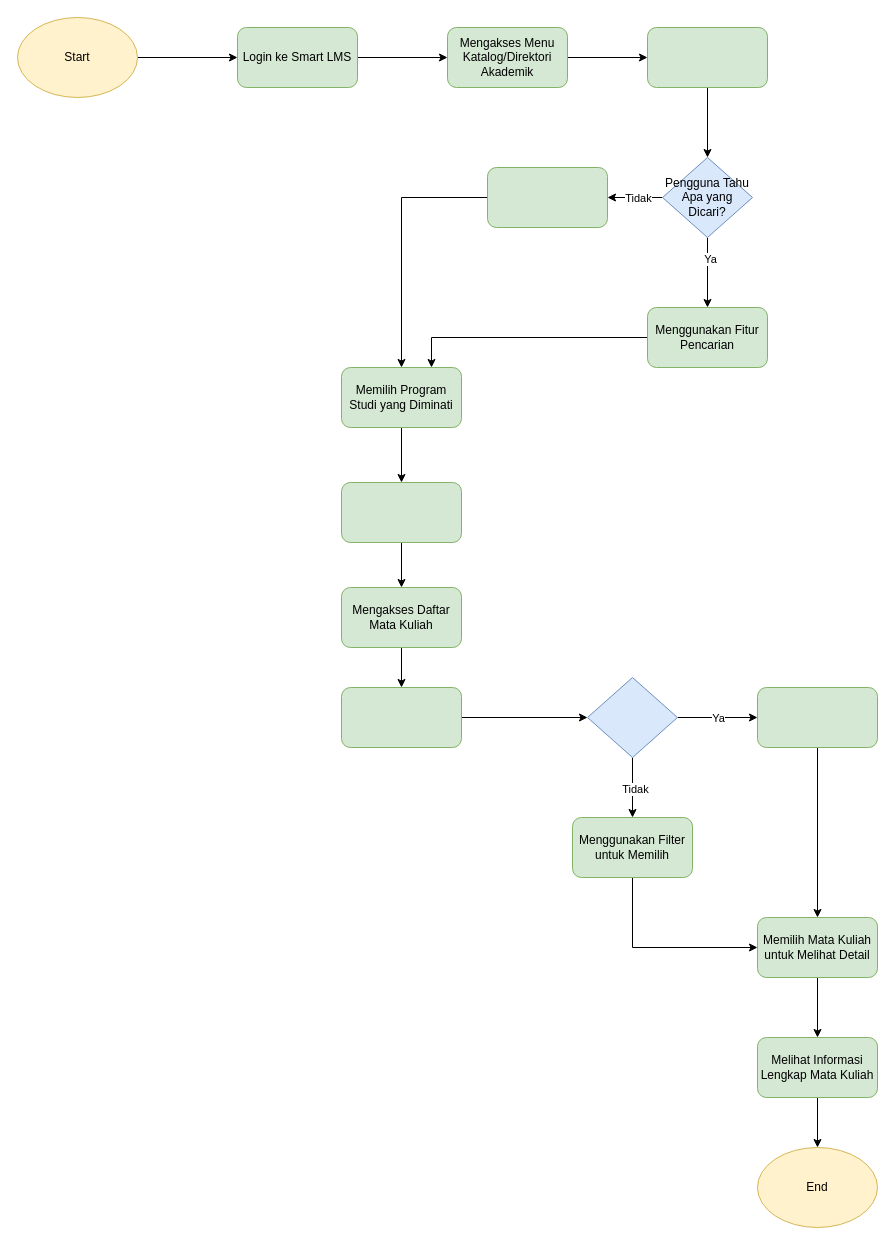
This 895x1245 diagram has some shape labels left out. Here are the shapes that lost their labels. From the top down, the centre of each, then its label:
At point (707, 57): "Pencarian Program Studi".
At point (547, 197): "Menelusuri Daftar Program Studi".
At point (401, 512): "Melihat Detail Program Studi".
At point (401, 717): "Pencarian Mata Kuliah".
At point (632, 717): "Pengguna Punya Banyak Waktu?".
At point (817, 717): "Scrolling Daftar Mata Kuliah".
